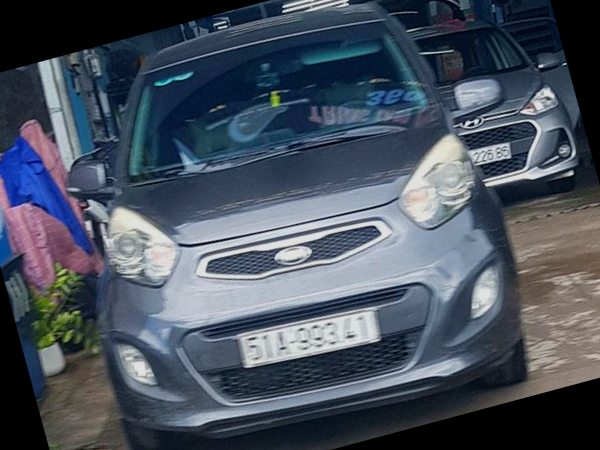lisence: (237, 308, 381, 367)
